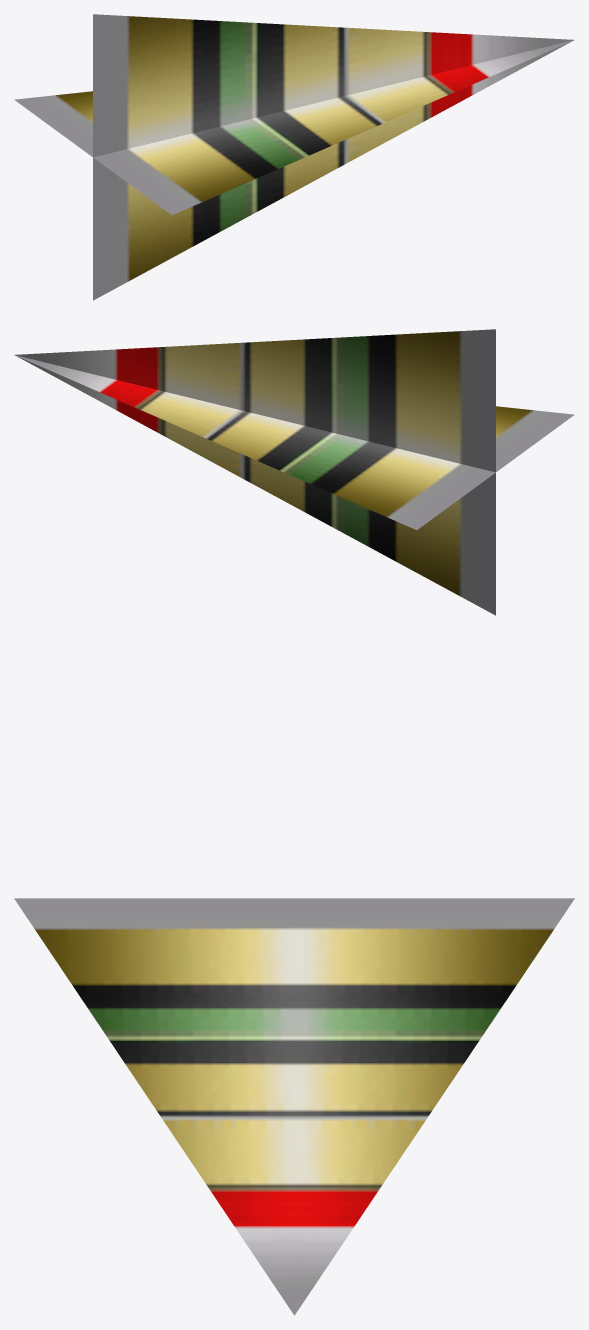
File: USA - Aviation - Carpet Bomb - EXCarptBmb.glb
3 views of the same model, one above another, from view 1: azimuth 30°, elevation 25°; view 2: azimuth 150°, elevation 25°; view 3: azimuth 270°, elevation 25° (orthographic). The views are drawn at different scales.
Visible parts, largest first — view 1: EXCARPTBMB; view 2: EXCARPTBMB; view 3: EXCARPTBMB.
Part boxes in pixels (<box>): EXCARPTBMB: <box>14,14,574,300</box>; EXCARPTBMB: <box>14,329,574,615</box>; EXCARPTBMB: <box>14,898,574,1315</box>.
Size of the model in its own units: 13.03 by 7.4 by 7.4.
1 material, 1 textured.
